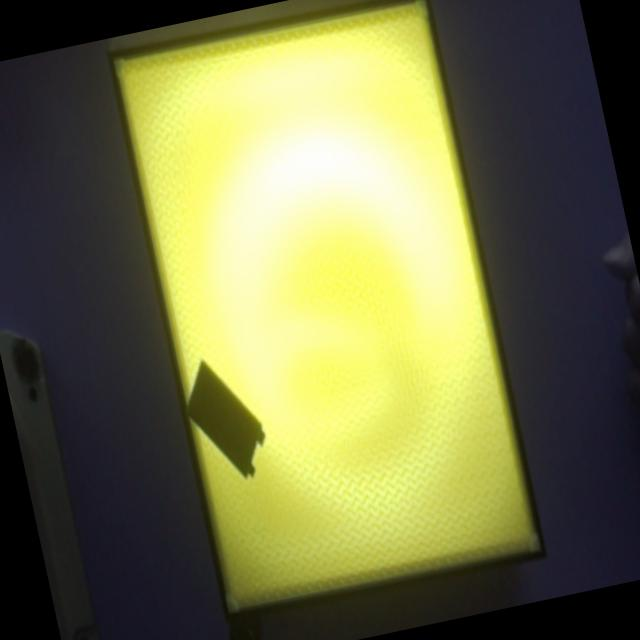bateria: (186, 359, 265, 477)
mesa: (104, 0, 548, 625)
